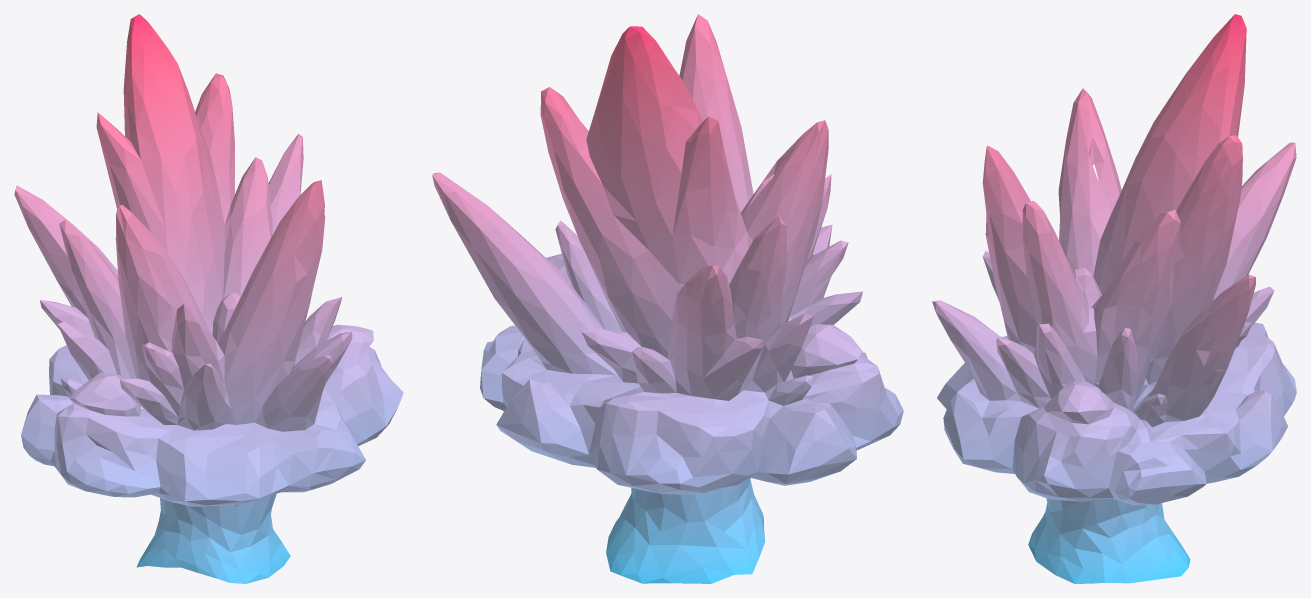
Rendered from 123_cyb_laser_gradient_fish_scales_2976_2026_10_03_77e48a.glb.
3 views of the same model, side by side, from view 1: azimuth 30°, elevation 25°; view 2: azimuth 150°, elevation 25°; view 3: azimuth 270°, elevation 25° (orthographic). The views are drawn at different scales.
Parts seen in each view (by area): view 1: geometry_0; view 2: geometry_0; view 3: geometry_0.
Part boxes in pixels (left/top/right/bottom): geometry_0: left=14, top=14, right=403, bottom=583; geometry_0: left=432, top=14, right=903, bottom=583; geometry_0: left=932, top=14, right=1296, bottom=583.
Bounding box in the file's own units: 0.6794 × 0.9981 × 0.6163.
